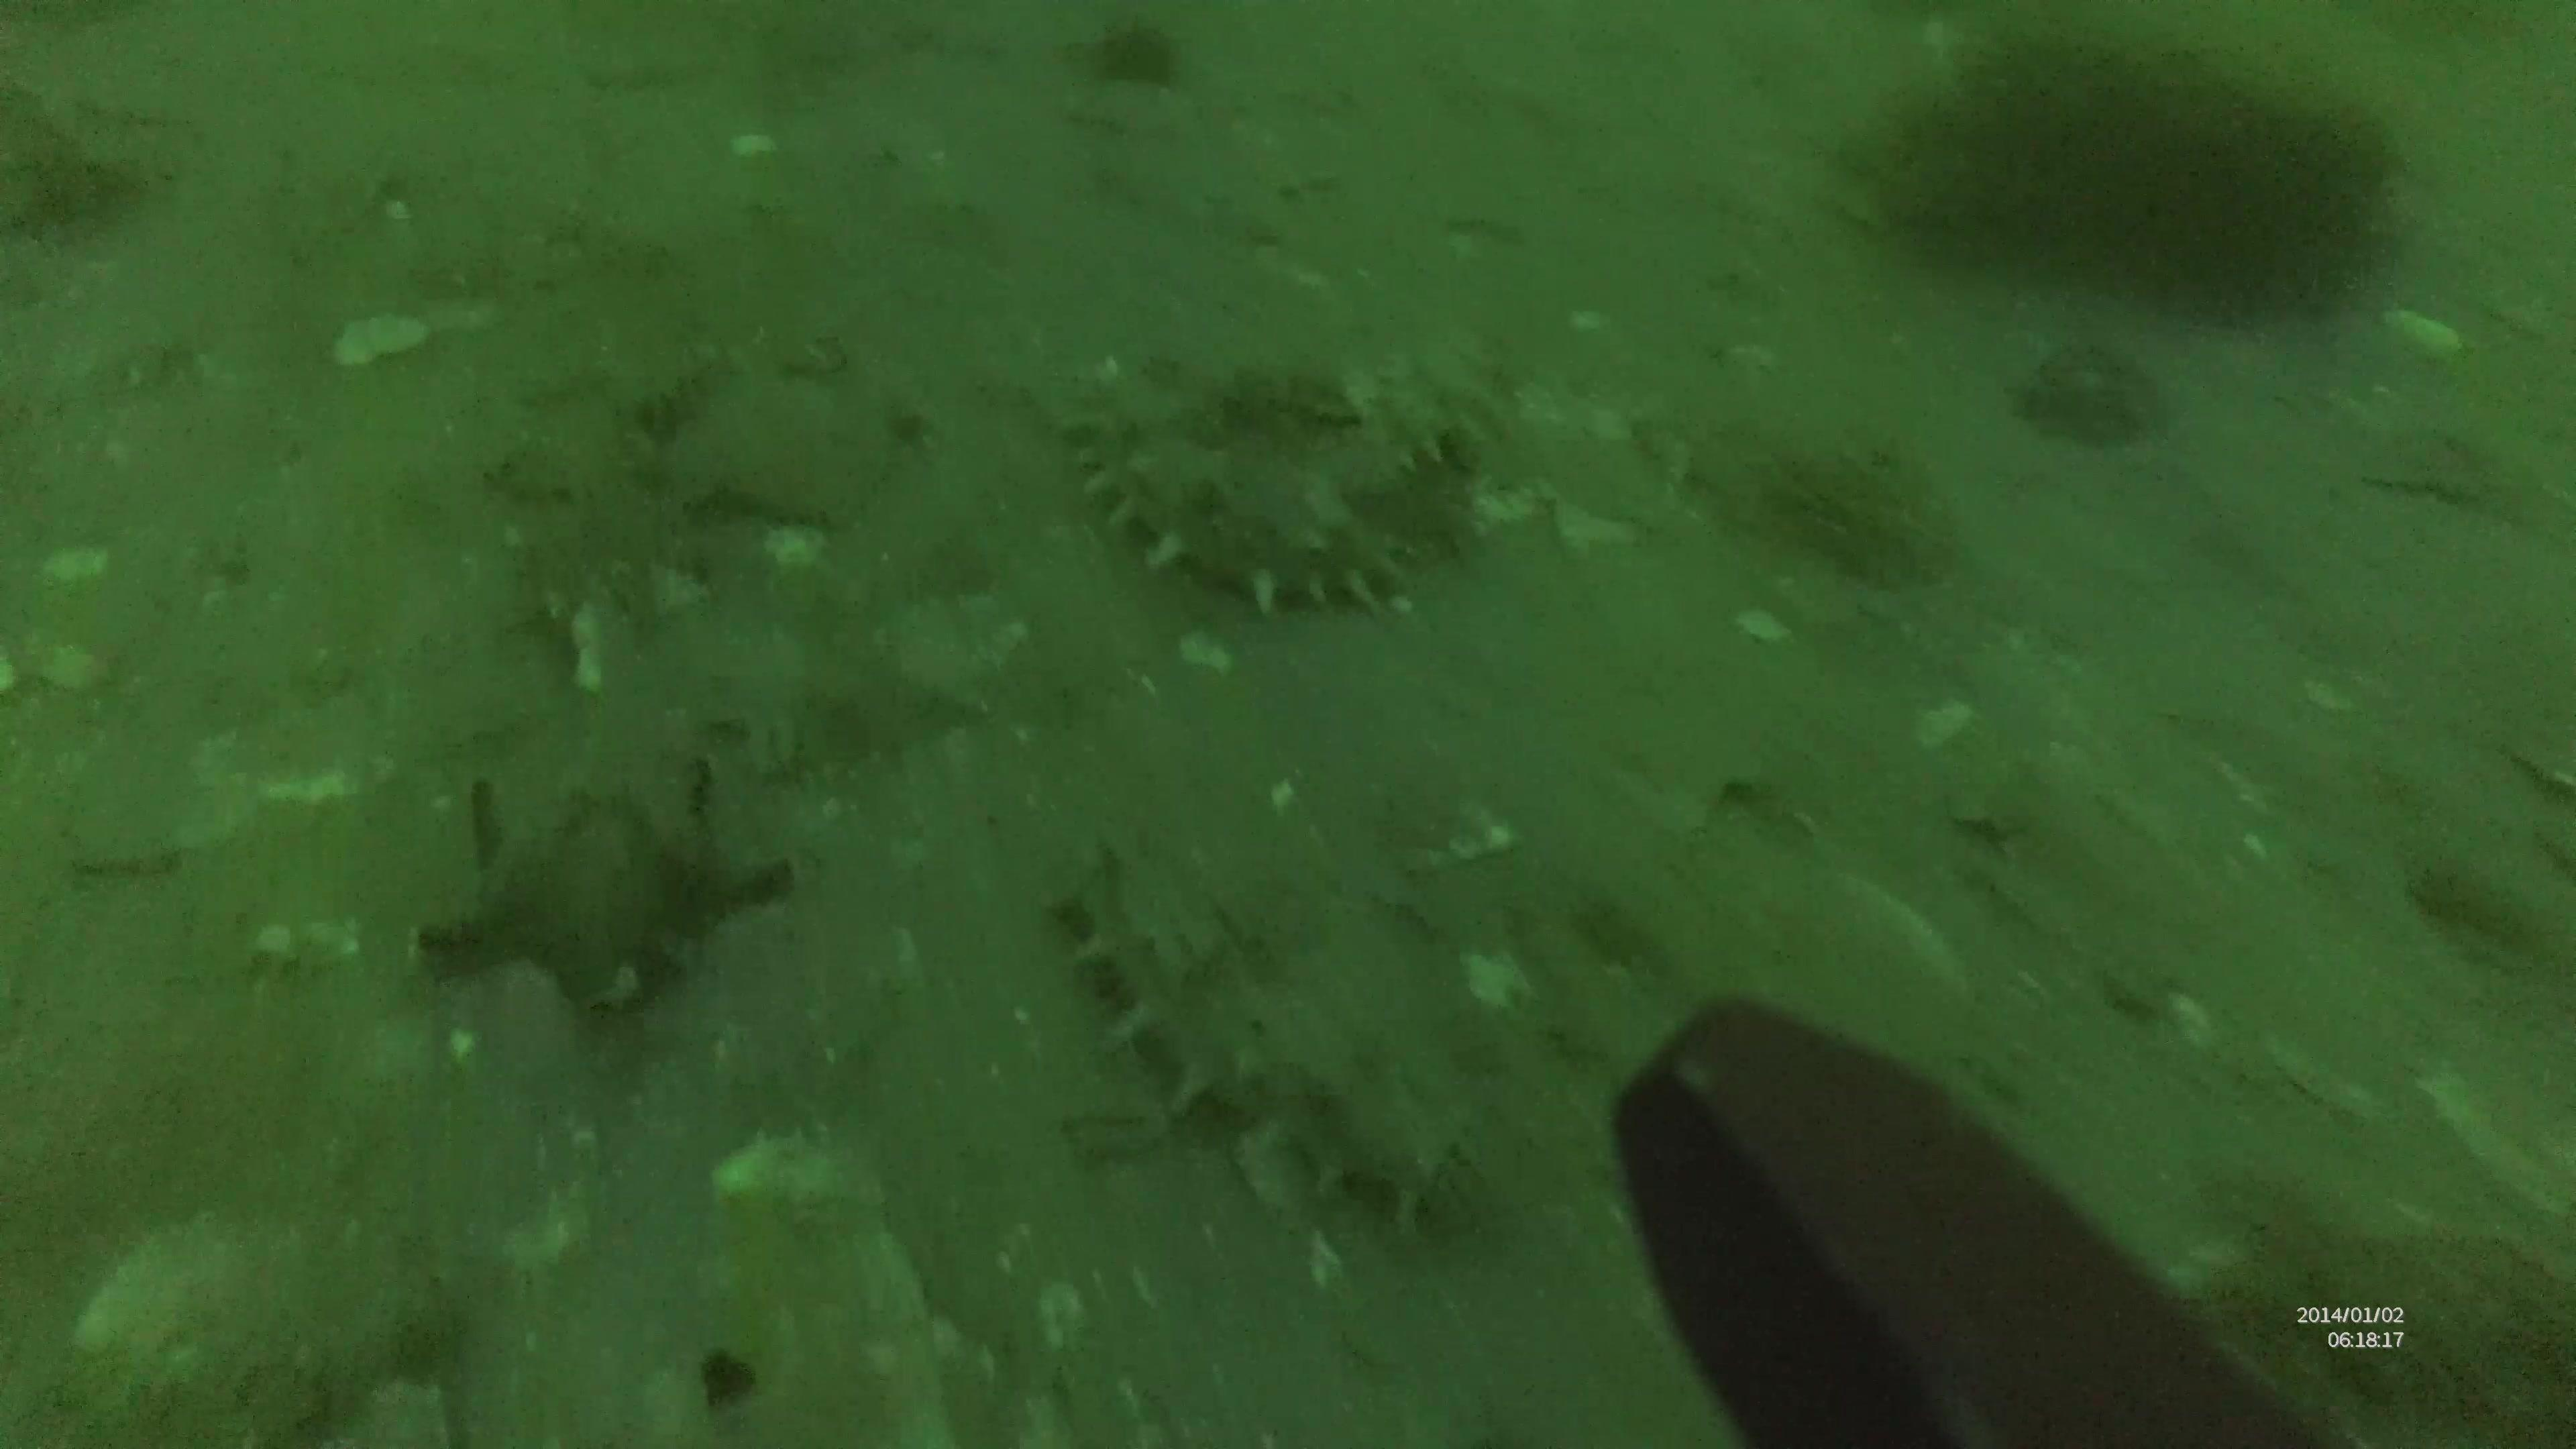holothurian: (1049, 828, 1488, 1240), (1074, 391, 1394, 614), (1253, 336, 1491, 557)
scallop: (665, 350, 888, 534), (709, 1134, 895, 1228), (564, 587, 640, 702), (492, 1198, 587, 1272), (1465, 460, 1552, 522), (1451, 939, 1523, 1007), (763, 515, 830, 577)
starfish: (416, 759, 791, 1024)
